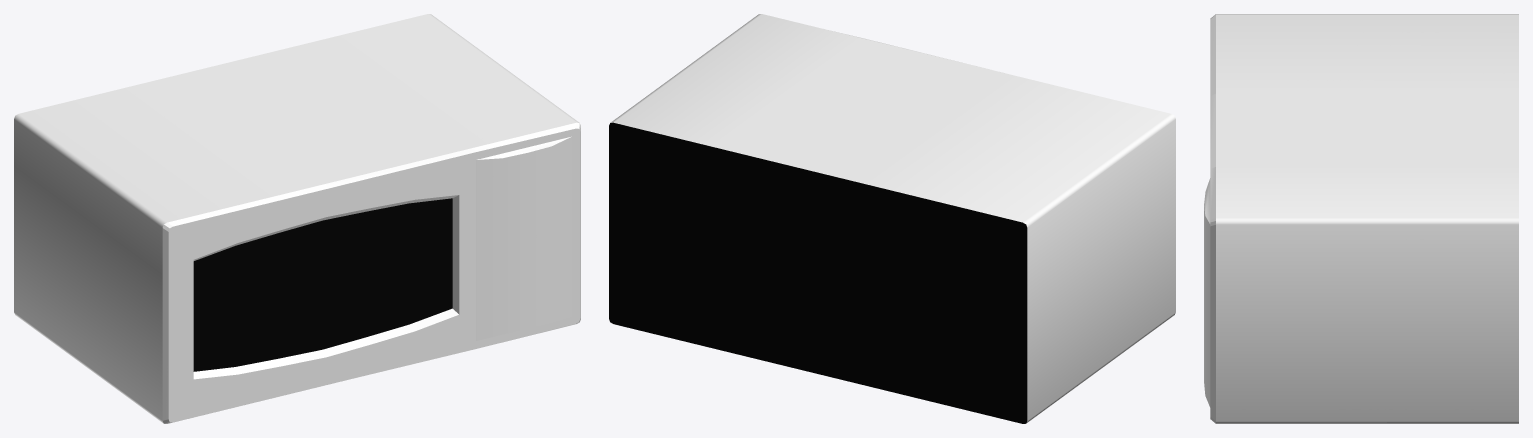
The model's file is Kitchen_Microwave.FBX.
The picture shows the model from 3 angles, left to right: view 1: azimuth 30°, elevation 25°; view 2: azimuth 150°, elevation 25°; view 3: azimuth 270°, elevation 25°; orthographic projection.
Visible parts, largest first — view 1: Kitchen_microwave; view 2: Kitchen_microwave; view 3: Kitchen_microwave.
Boxes of the visible parts, x1,y1,x2,y2 form: Kitchen_microwave: (14, 14, 580, 423); Kitchen_microwave: (609, 14, 1175, 423); Kitchen_microwave: (1204, 14, 1518, 423).
Bounding box in the file's own units: 0.5942 × 0.2734 × 0.3799.
